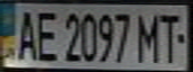0: (78, 8, 100, 63)
2: (60, 8, 81, 63)
7: (112, 9, 136, 63)
9: (97, 8, 118, 63)
A: (9, 6, 39, 62)
E: (30, 7, 60, 62)
M: (136, 9, 163, 64)
T: (154, 9, 187, 63)
